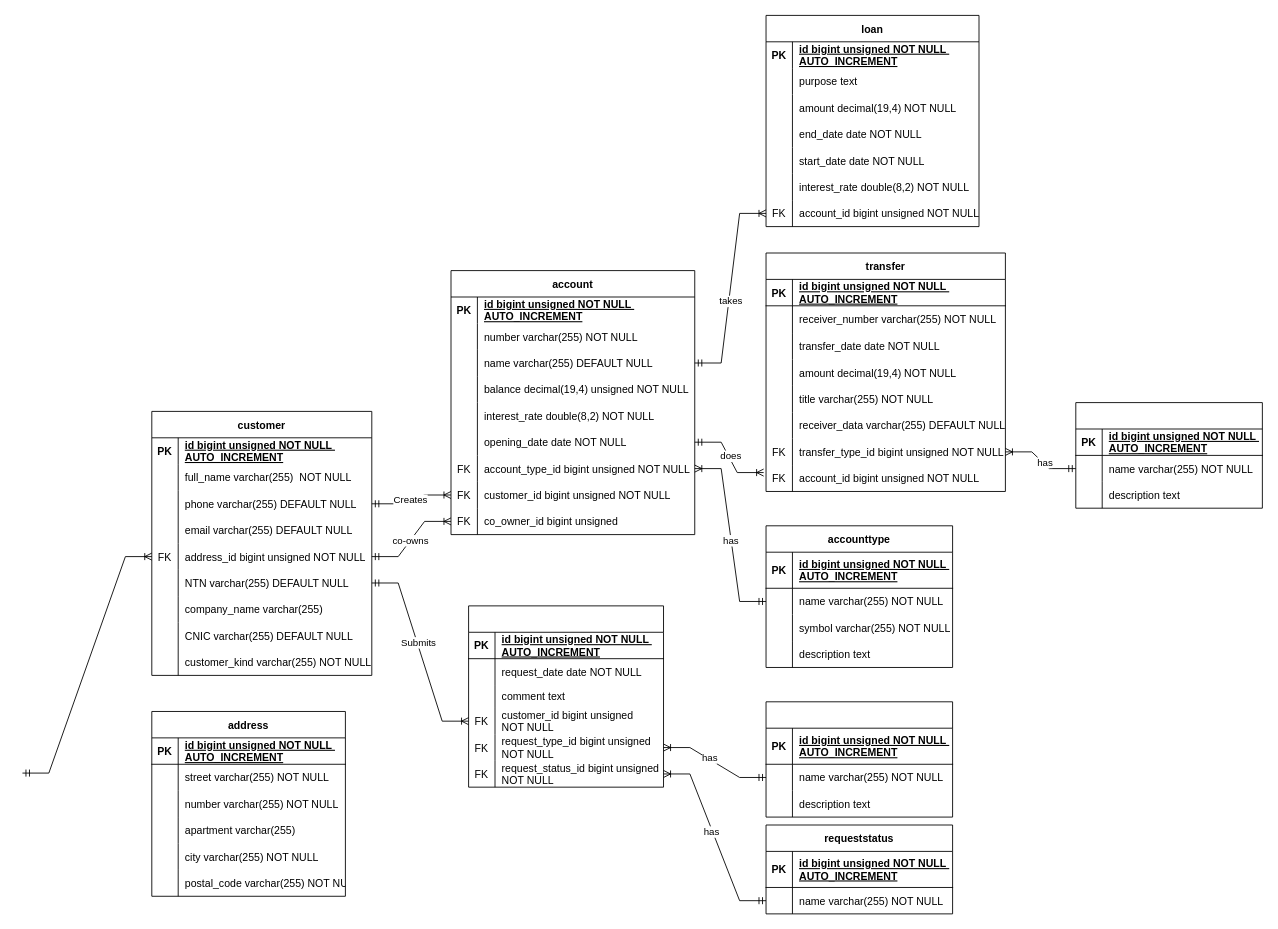
This 1278x929 diagram has some shape labels left out. The box of each missing label's shape, as (x1, y1, x2, y2) in pixels:
customerrequest: (468, 605, 664, 787)
requesttype: (765, 701, 953, 817)
transfertype: (1075, 402, 1262, 508)
